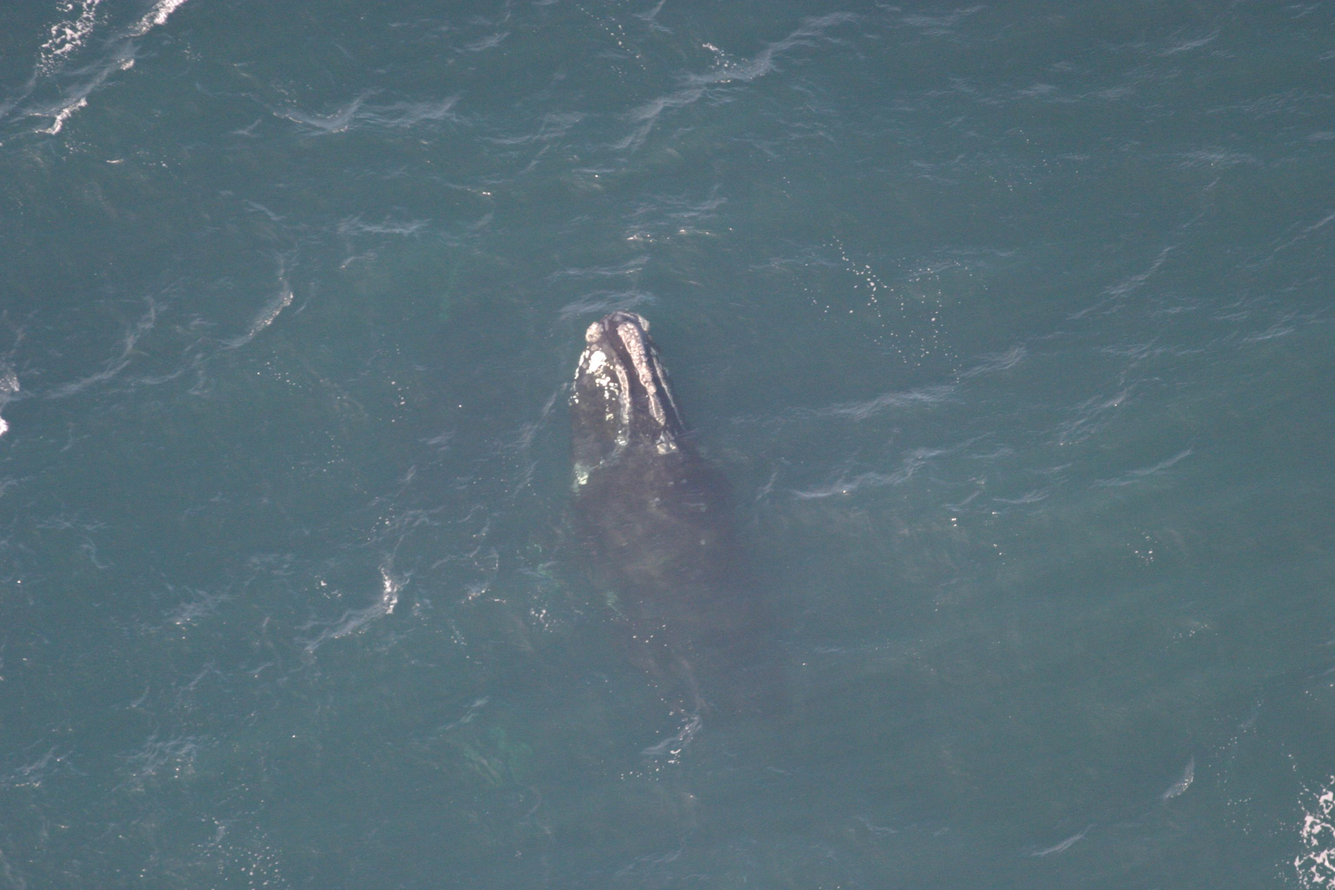whale: (560, 299, 783, 796)
